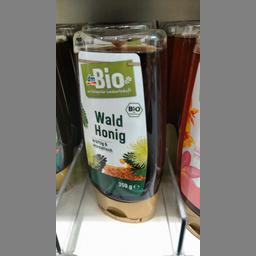honey: (71, 27, 170, 224)
